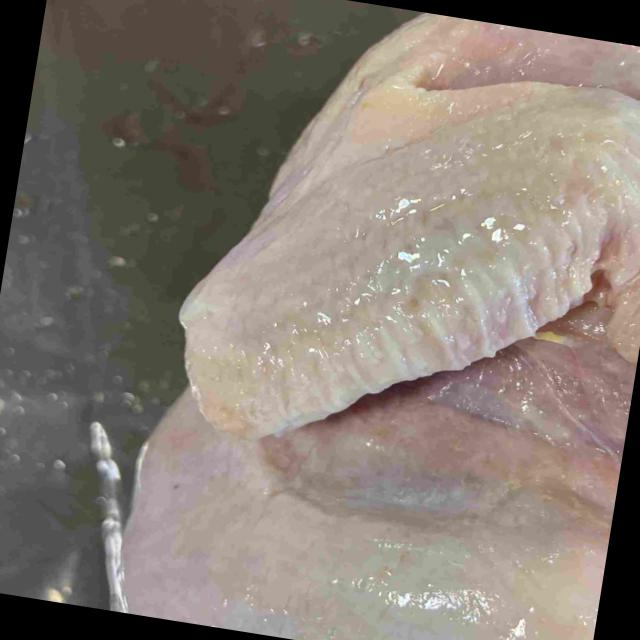leg: (431, 503, 612, 640)
wing: (181, 81, 640, 431)
